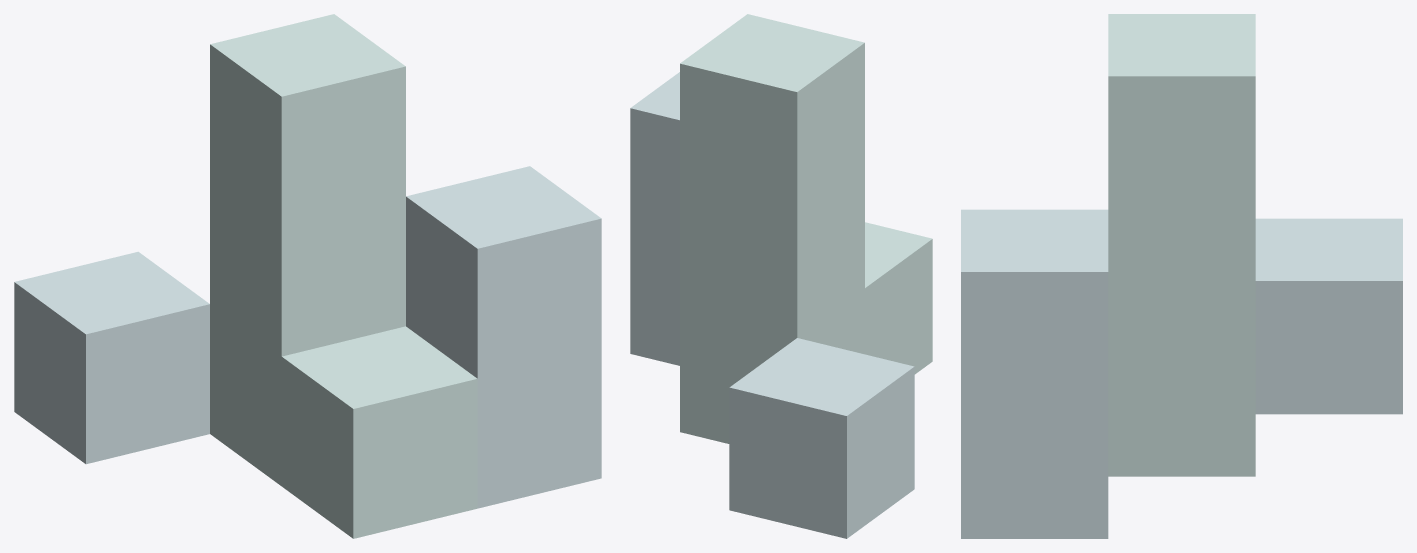
File: tile-32.obj
3 renders of one model, left to right at view 1: azimuth 30°, elevation 25°; view 2: azimuth 150°, elevation 25°; view 3: azimuth 270°, elevation 25°, orthographic. The views are drawn at different scales.
Size of the model in its own units: 0.3 by 0.3 by 0.3.
Materials: 1 (1 with a texture image).
